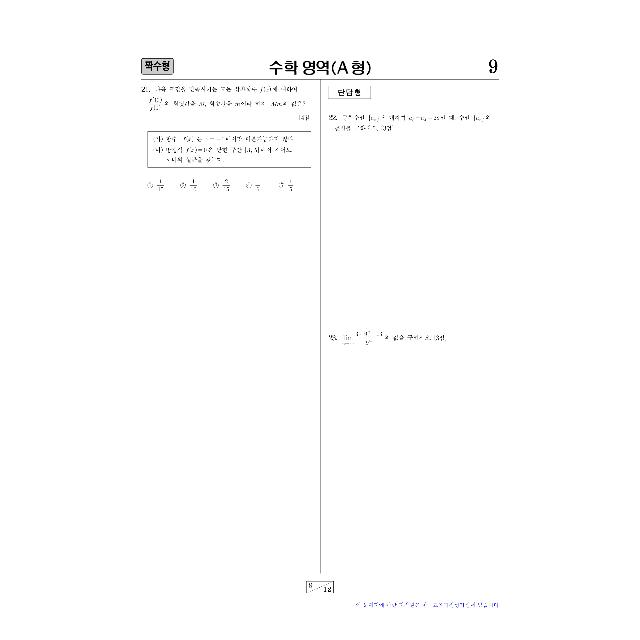multiple: (135, 80, 317, 200)
short: (324, 111, 500, 137), (324, 326, 478, 352)
